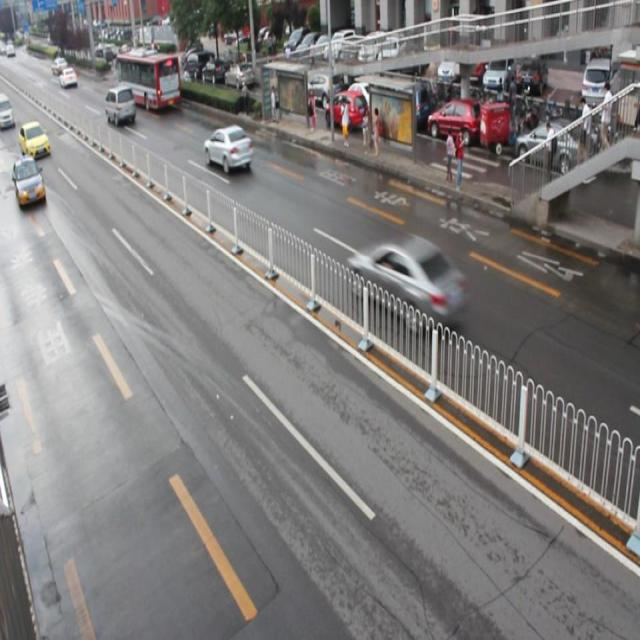car: (349, 233, 466, 330), (204, 124, 253, 172), (13, 155, 46, 209)
truck: (105, 86, 136, 125)
van: (117, 51, 180, 110)
